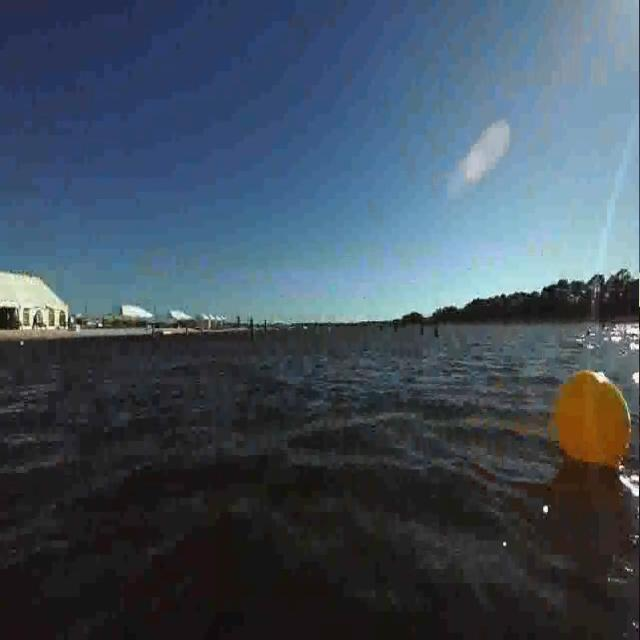yellow-buoy: (554, 368, 633, 471)
